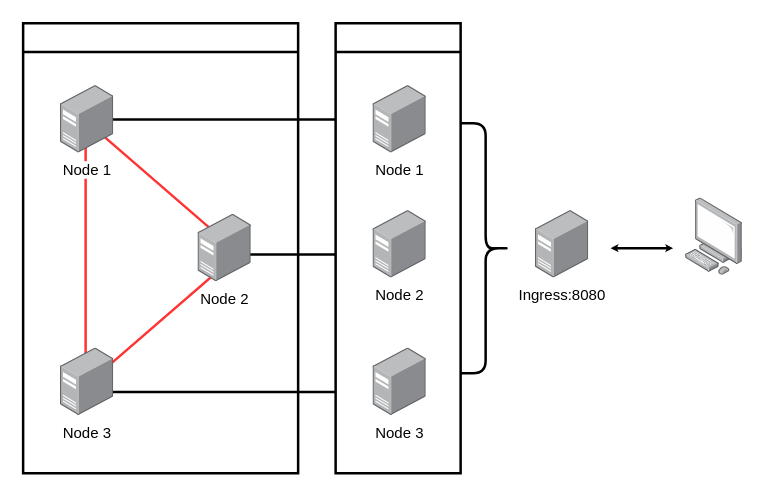
Some shapes in this 764 by 495 pixel diagram are drawn without their labels. The box of each missing label's shape, as (x1, y1, x2, y2) in pixels:
Backend:3000: (334, 21, 461, 474)
Client: (685, 198, 742, 275)
Kvsd:4000: (21, 21, 299, 474)
